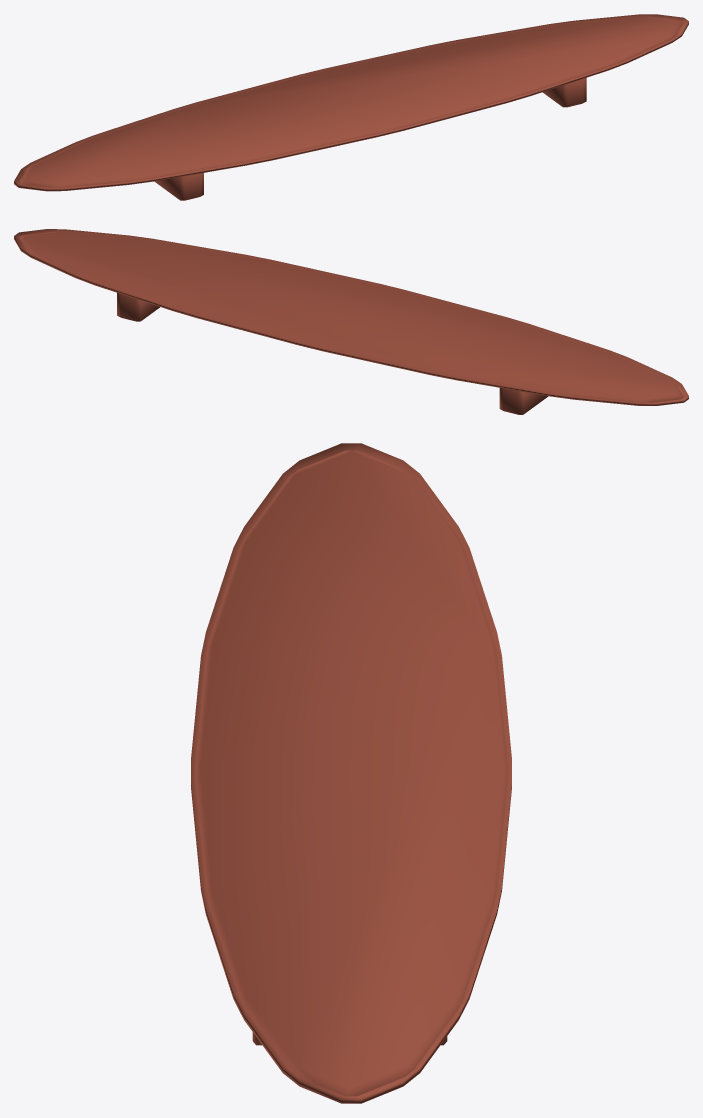
Rendered from admin_table_important.fbx.
3 views of the same model, one above another, from view 1: azimuth 30°, elevation 25°; view 2: azimuth 150°, elevation 25°; view 3: azimuth 270°, elevation 25° (orthographic). The views are drawn at different scales.
Parts seen in each view (by area): view 1: Circle.001; view 2: Circle.001; view 3: Circle.001.
Boxes of the visible parts, x1,y1,x2,y2 form: Circle.001: (14,14,688,200); Circle.001: (14,229,688,414); Circle.001: (191,443,511,1103).
Bounding box in the file's own units: 1285 × 65.82 × 266.
